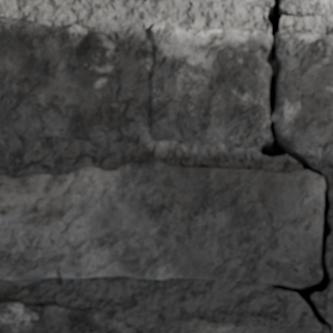brick: (0, 161, 324, 285), (0, 17, 121, 143), (0, 301, 124, 332), (156, 318, 313, 332), (321, 328, 328, 332)
broken_brick: (146, 21, 271, 148), (272, 29, 332, 149), (281, 0, 332, 17), (203, 0, 272, 12)
crack: (258, 0, 332, 332)
